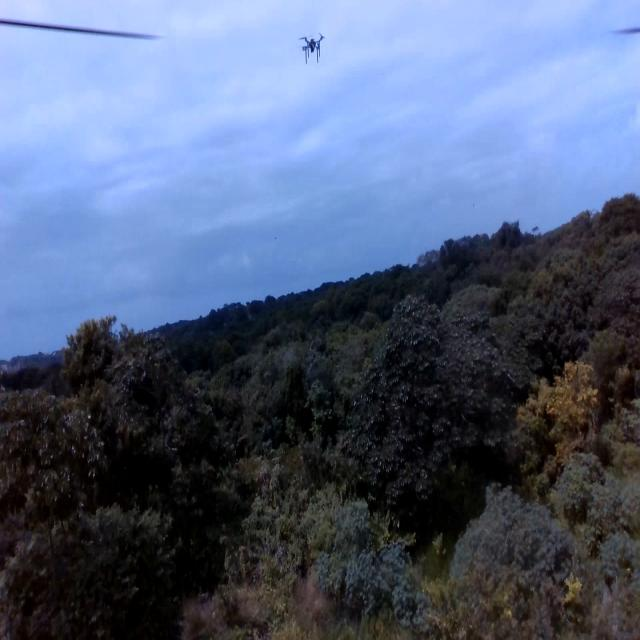-uav-: (295, 24, 329, 66)
